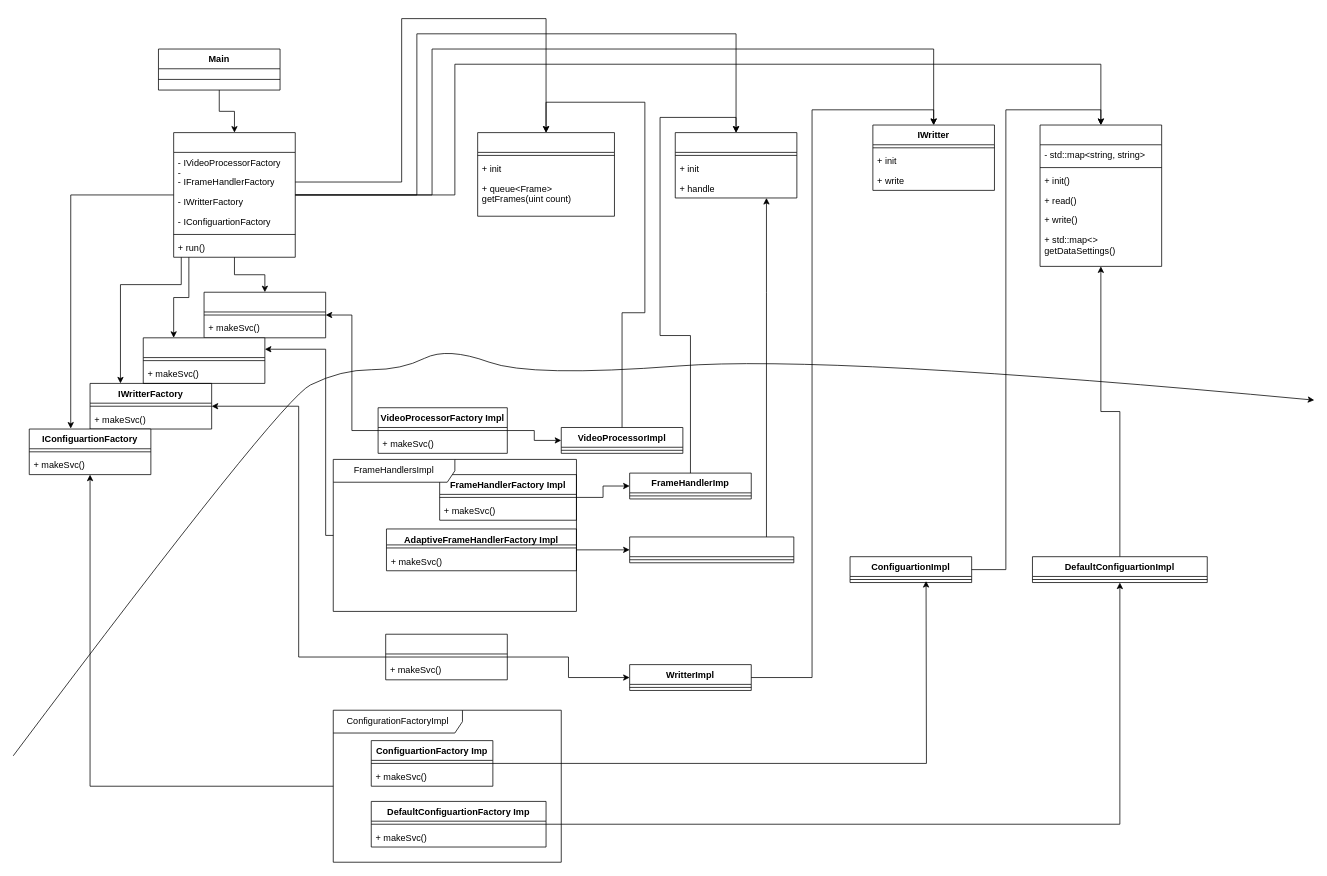
The diagram is 1327 pixels wide and 876 high, and some of its shapes have lost their labels. The box of each missing label's shape, as (x1, y1, x2, y2) in pixels:
AdaptiveFrameHandleImpl: (629, 536, 794, 563)
Application: (173, 132, 295, 257)
IConfiguration: (1039, 124, 1162, 266)
IFrameHandler: (674, 132, 797, 198)
IFrameHandlerFactory: (142, 337, 265, 383)
IVideoProcessor: (477, 132, 614, 216)
IVideoProcessorFactory: (203, 291, 326, 338)
WritterFactory Impl: (385, 633, 507, 680)
